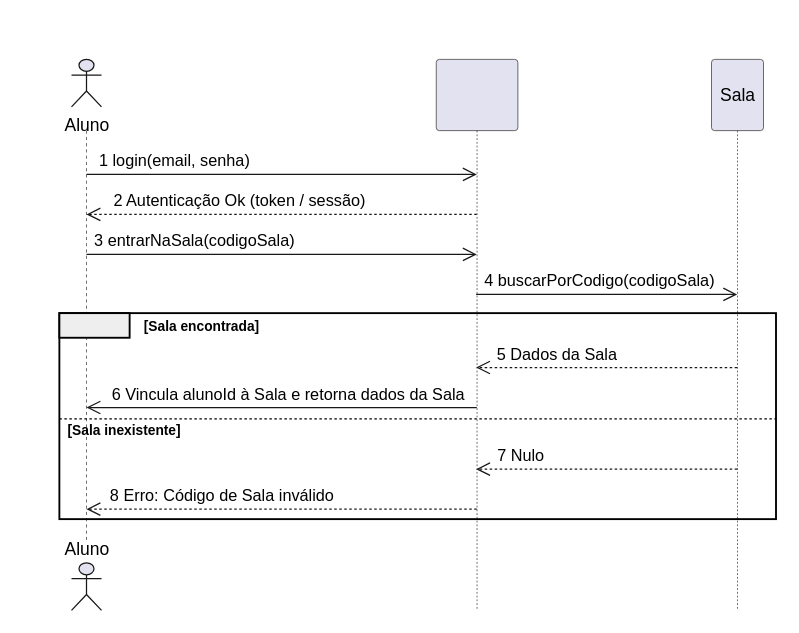
Some shapes in this 799 by 633 pixel diagram are drawn without their labels. Each missing label, with the box of its shape:
alt: (58, 312, 130, 338)
Sistema: (435, 58, 518, 610)
